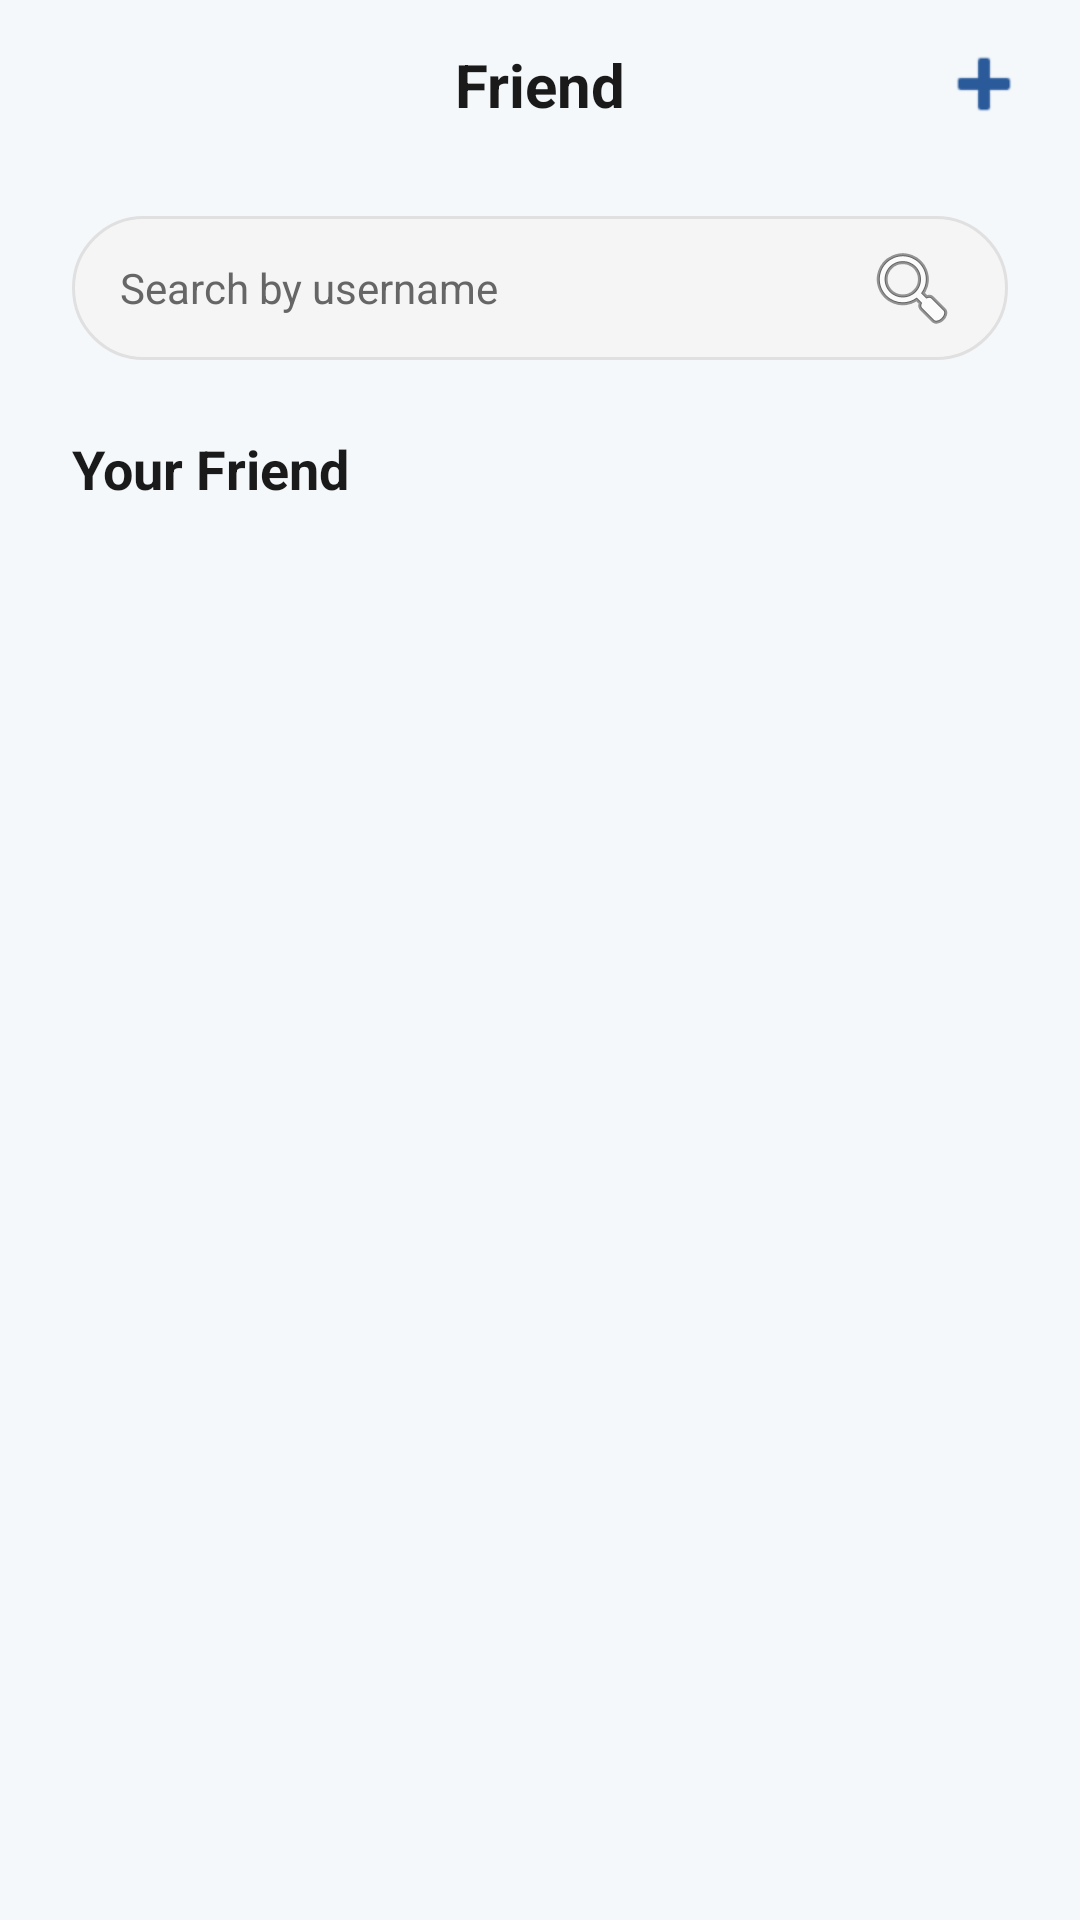

Named icons in this screenshot (1080*1920) and their bounding boxes, box=[x1, y1, x2, y2]:
Add Friend: box=[957, 57, 1011, 111]
